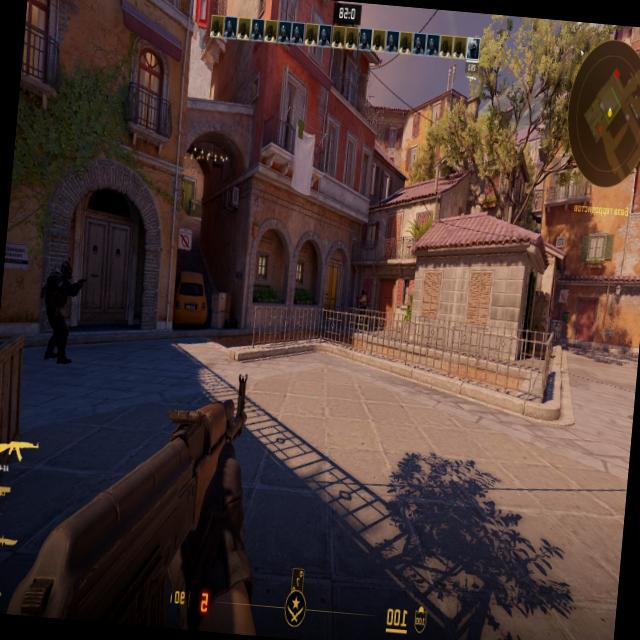CT: (42, 259, 72, 348)
CT_heat: (54, 266, 70, 290)
